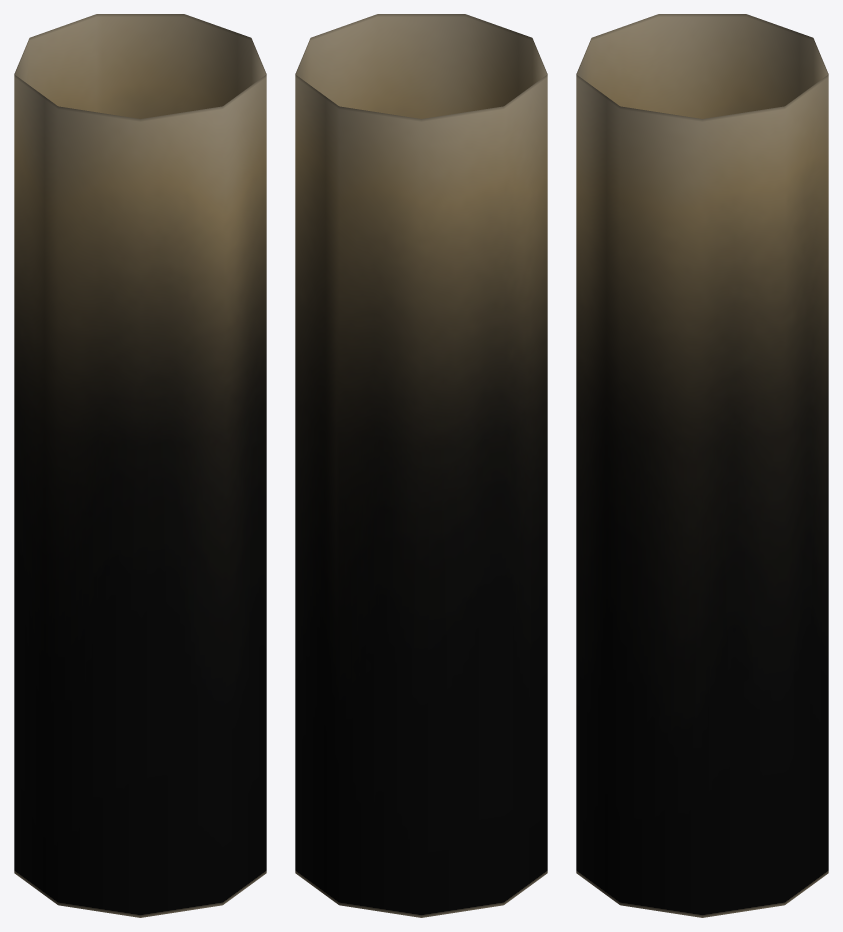
The model's file is yuanzhu.FBX.
3 views of the same model, side by side, from view 1: azimuth 30°, elevation 25°; view 2: azimuth 150°, elevation 25°; view 3: azimuth 270°, elevation 25° (orthographic).
Visible parts, largest first — view 1: Cylinder001; view 2: Cylinder001; view 3: Cylinder001.
Boxes of the visible parts, left/top/right/bottom form: Cylinder001: left=14, top=14, right=266, bottom=917; Cylinder001: left=295, top=14, right=547, bottom=917; Cylinder001: left=576, top=14, right=828, bottom=917.
Size of the model in its own units: 63.21 by 224 by 64.18.
